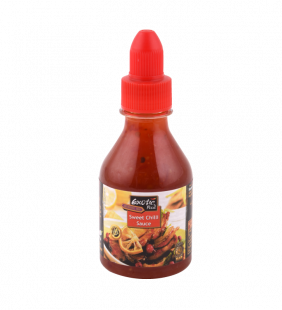EXOTIC FOOD: (98, 29, 194, 280)
